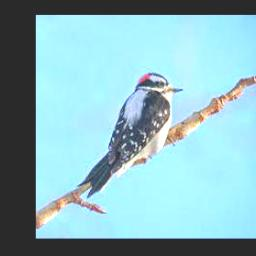Woodpecker: (78, 73, 184, 197)
